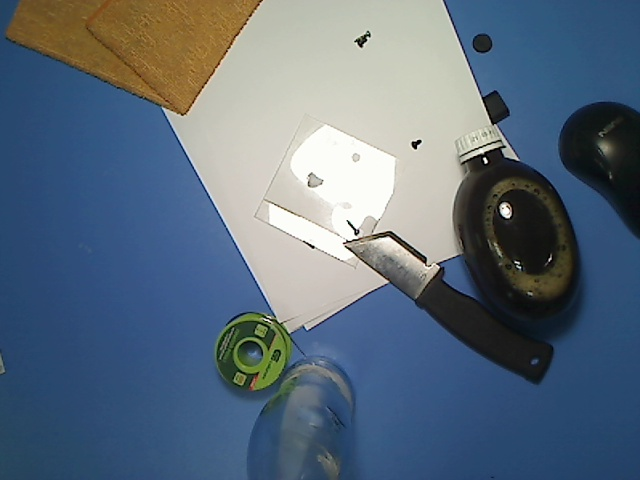plast_bottle: (450, 120, 585, 332)
